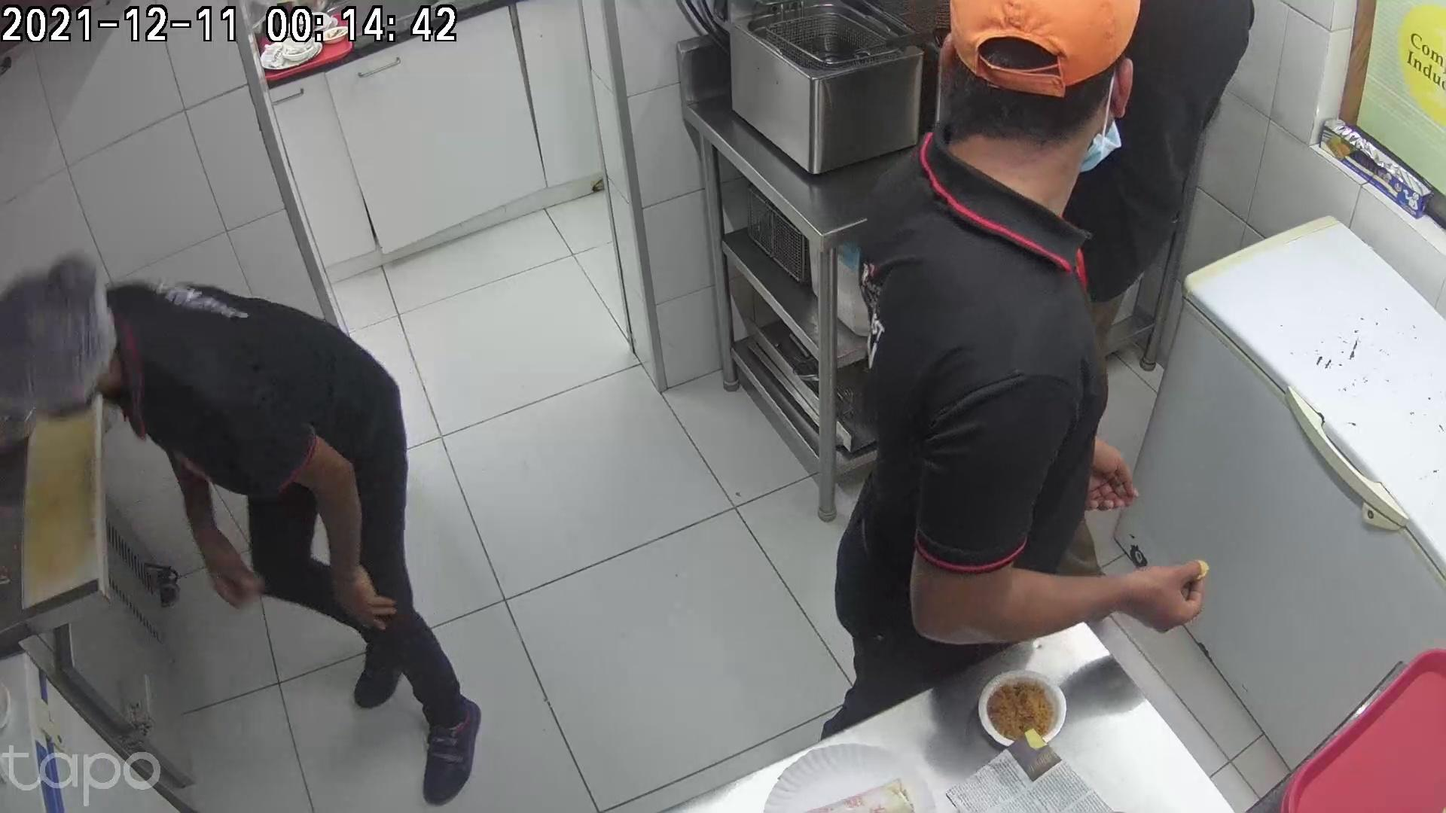gloves: (681, 598, 757, 750)
